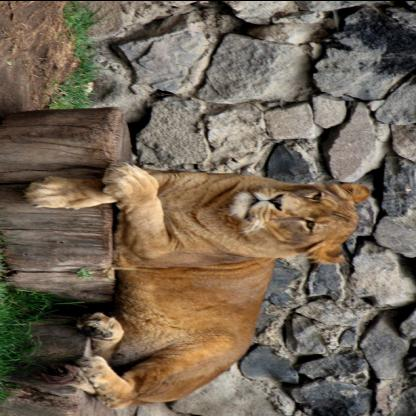lion: (207, 175, 373, 265)
